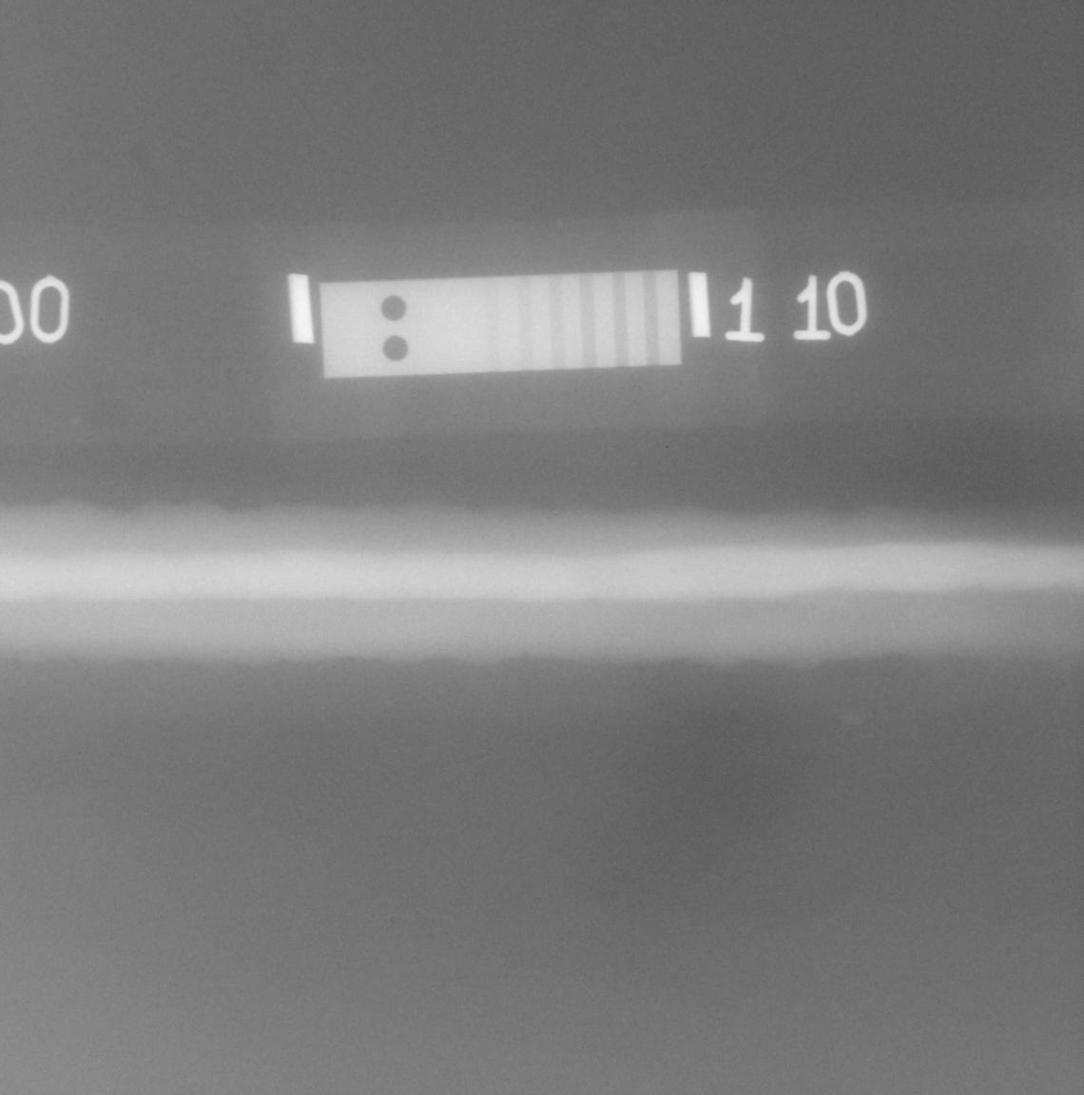Pore/Porosity: (670, 566, 677, 574), (139, 574, 144, 578)
Reference Standard 2: (319, 268, 683, 380)
